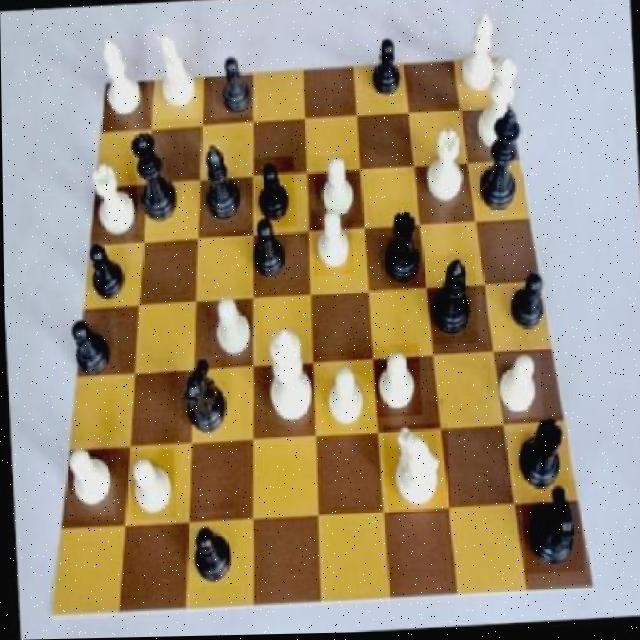bishop: (424, 254, 478, 348), (197, 141, 246, 234)
black-bishop: (470, 104, 529, 216)
black-king: (519, 482, 583, 577), (175, 354, 242, 443)
black-knight: (181, 510, 235, 588), (64, 311, 117, 384), (502, 264, 550, 338), (366, 34, 413, 106), (210, 48, 257, 119), (81, 235, 126, 309), (246, 213, 291, 287), (253, 158, 296, 230)
black-pawn: (127, 121, 186, 235)
black-queen: (509, 417, 566, 497), (376, 202, 422, 289)
black-rook: (90, 33, 147, 123), (454, 5, 502, 105)
white-bishop: (259, 329, 318, 433)
white-king: (381, 424, 449, 516), (145, 23, 200, 121)
white-knight: (62, 441, 114, 519), (372, 345, 422, 420), (313, 155, 363, 228), (489, 355, 542, 423), (208, 294, 256, 365), (127, 448, 175, 519), (322, 367, 370, 436), (310, 209, 354, 277)
white-pawn: (471, 51, 526, 158)
white-queen: (417, 121, 471, 212), (82, 155, 138, 242)
